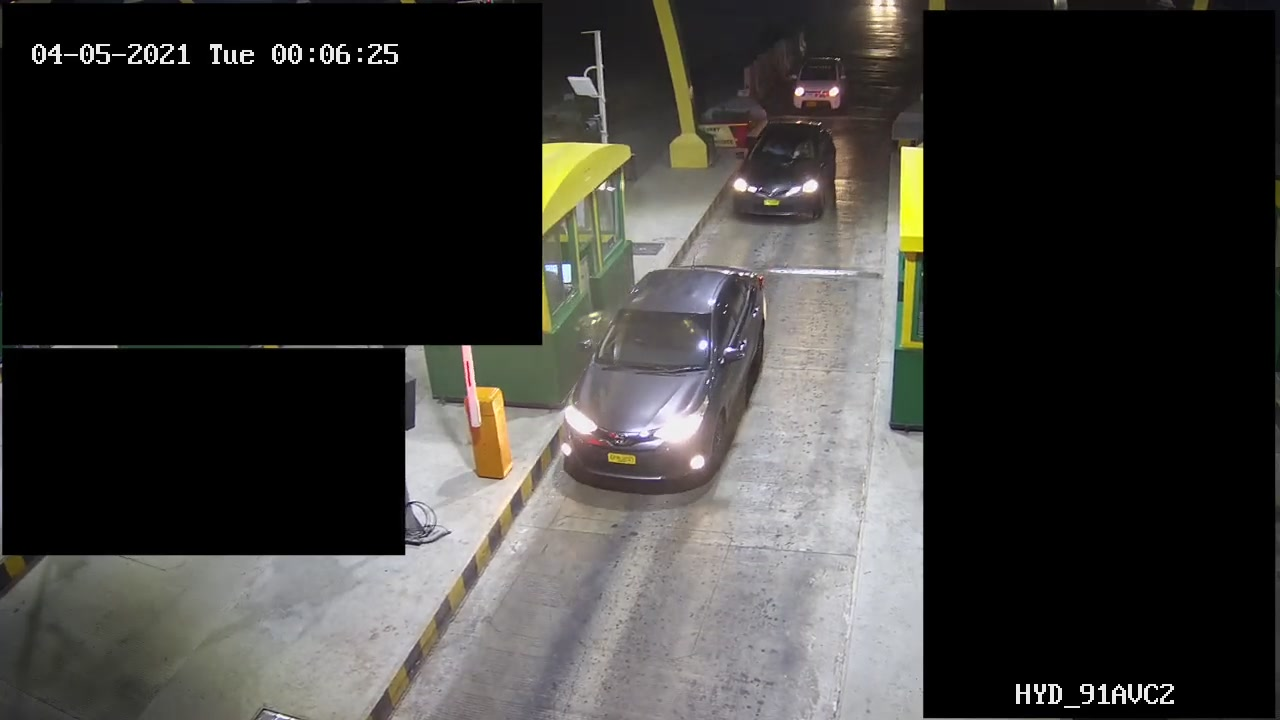F1: (550, 255, 791, 500), (727, 110, 846, 232)
